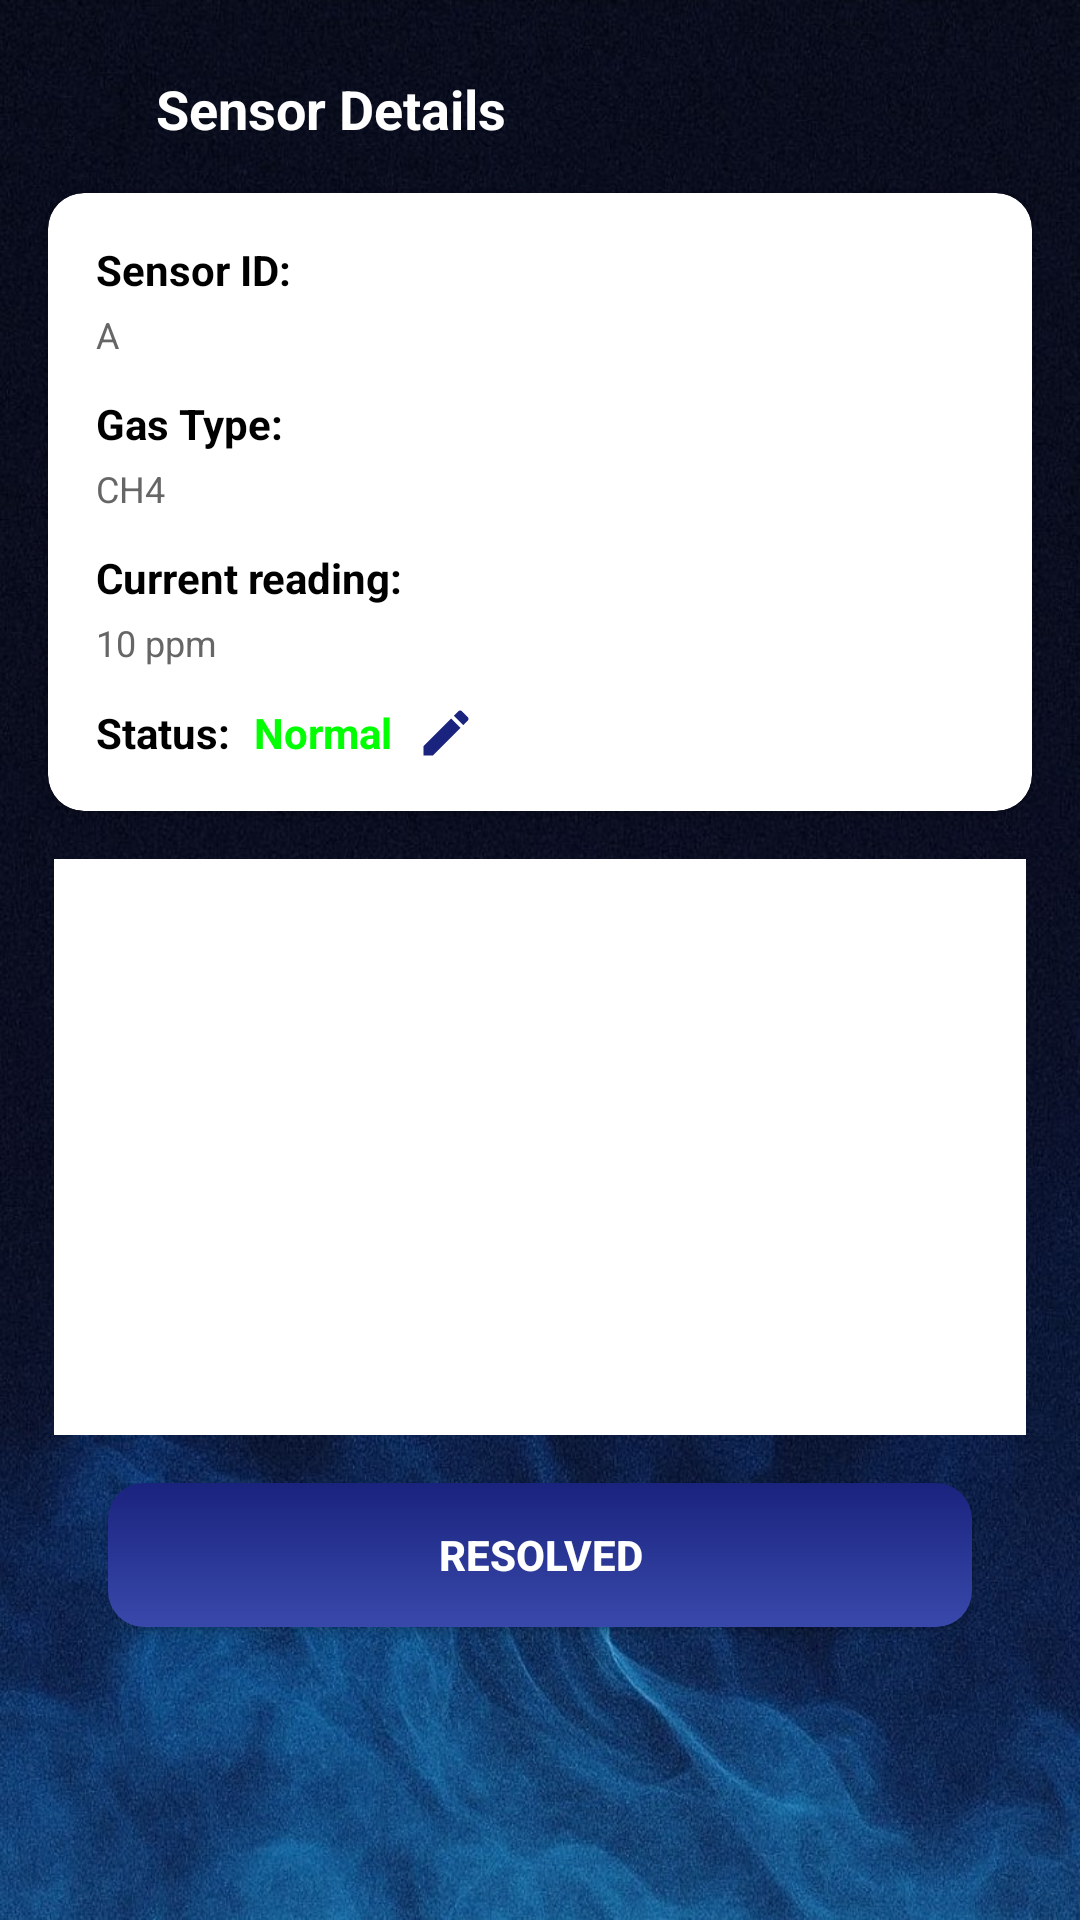

Icon bounding boxes for this 1080px×1920px phone screenshot, format detection(x1, y1, x2, y2):
edit: detection(423, 710, 469, 756)
